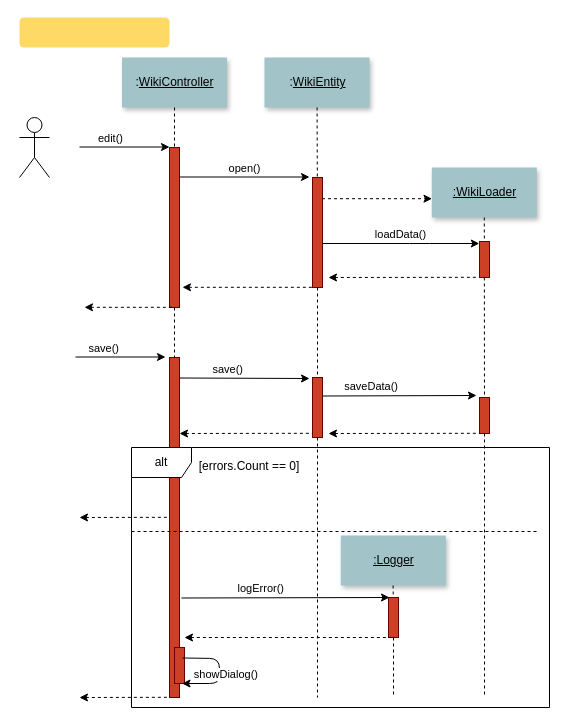
The diagram is 567 pixels wide and 725 high, and some of its shapes have lost their labels. Here are the shapes that lost their labels. From the top down, the centre of each, then its label:
At (x=94, y=32): "edit and save wiki page".
At (x=34, y=147): "Author".
